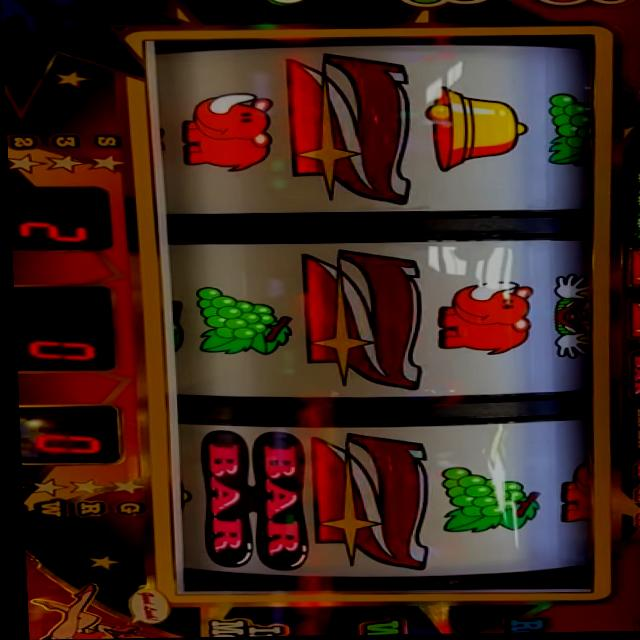bar: (194, 429, 303, 571), (620, 350, 640, 400)
bell: (420, 85, 531, 174)
clown: (538, 274, 597, 361)
display: (145, 35, 614, 601)
elephant: (432, 280, 533, 358), (179, 93, 274, 174), (550, 459, 592, 529), (625, 483, 640, 505), (628, 456, 640, 482), (628, 507, 640, 531)
grape: (186, 283, 291, 359), (434, 468, 542, 537), (542, 93, 595, 173), (628, 197, 640, 220), (629, 172, 640, 197), (630, 220, 640, 243)
z: (280, 52, 412, 210), (296, 248, 423, 394), (303, 431, 428, 573), (620, 303, 640, 347), (621, 247, 640, 293)
